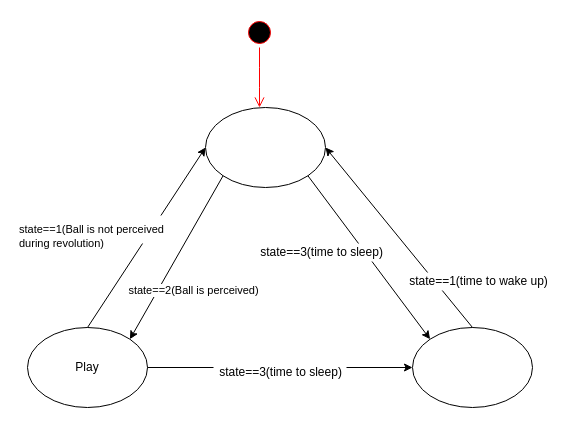
This 569x425 diagram has some shape labels left out. The shapes that lost their labels are listed below. From the top down, each one's centre as x and y in pixels, then its label:
At (265,147): "Normal".
At (472,367): "Sleep".
